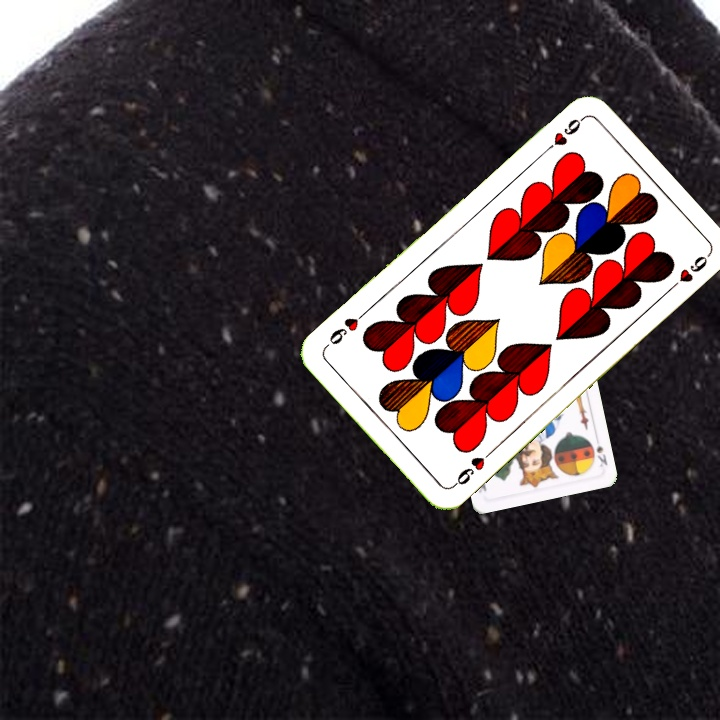H9: (448, 446, 496, 491), (537, 114, 586, 158)
SK: (591, 431, 610, 470)
